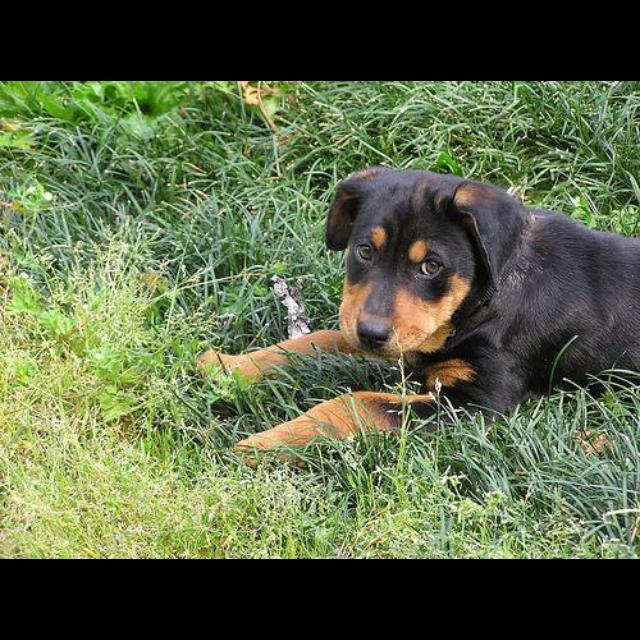rottweiler: (196, 166, 640, 473)
